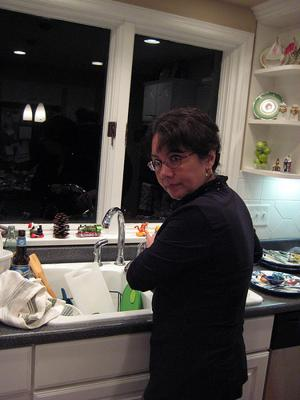person: (126, 109, 264, 398)
